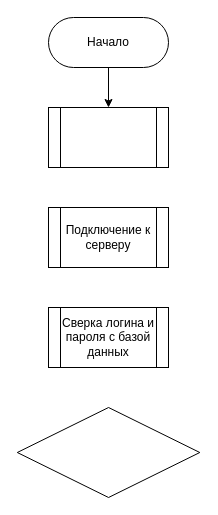
Some shapes in this 218 by 515 pixel diagram are drawn without their labels. Each missing label, with the box of its shape:
Ввод логина и пароля: (48, 106, 168, 168)
пользователь с таким логином и паролем существует?: (16, 406, 200, 498)
